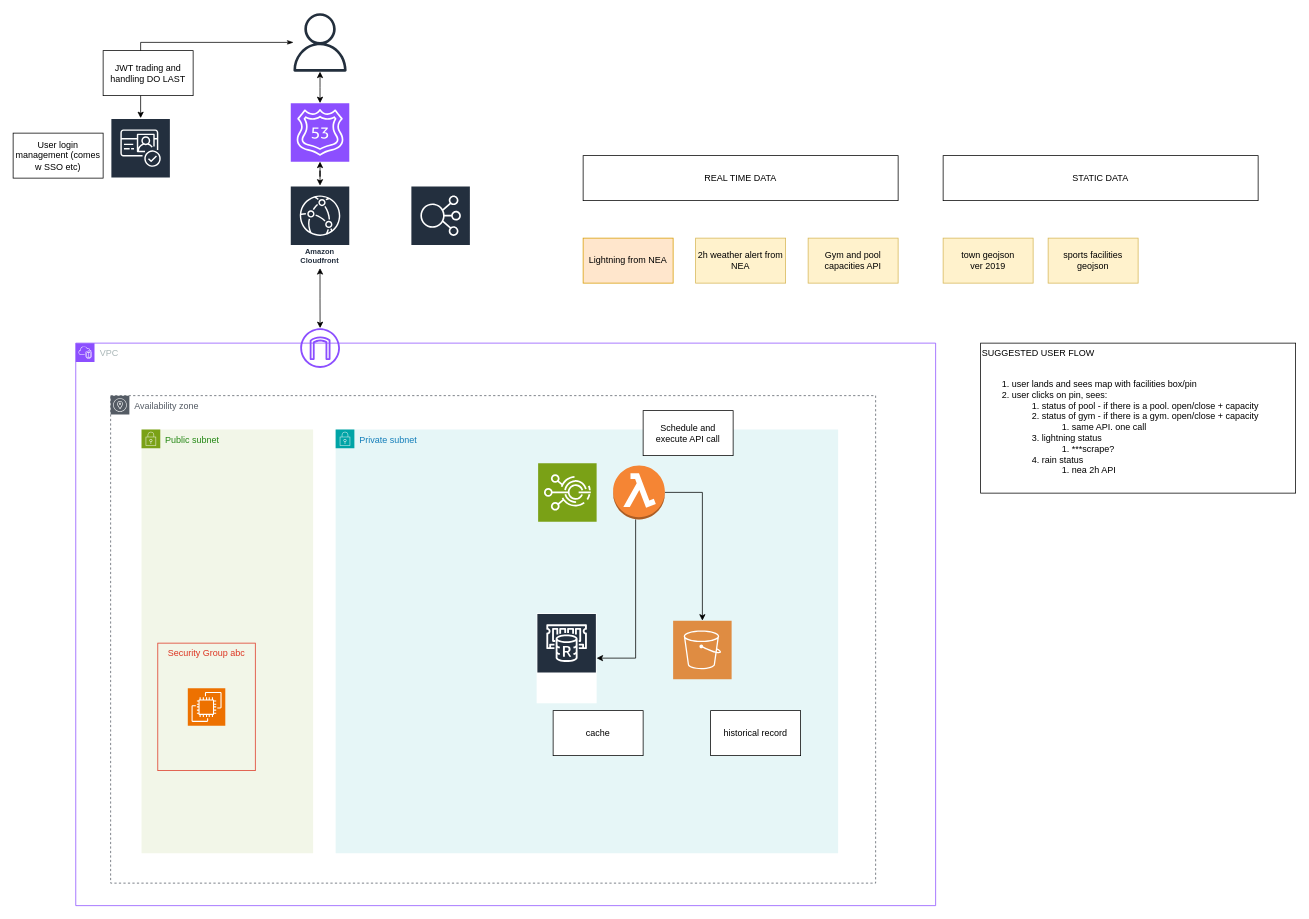
The diagram is 1309 pixels wide and 919 high, and some of its shapes have lost their labels. Each missing label, with the centre of its shape:
"Amazon Cognito" goes at (140,159).
"Amazon ElastiCache for Redis" goes at (566,657).
"EC2 Apache Webserver" goes at (206,706).
"Elastic Load Balancing" goes at (440,226).
"Eventbridge" goes at (567,492).
"Internet Gateway" goes at (320,348).
"Lambda" goes at (638,492).
"S3" goes at (702,649).
